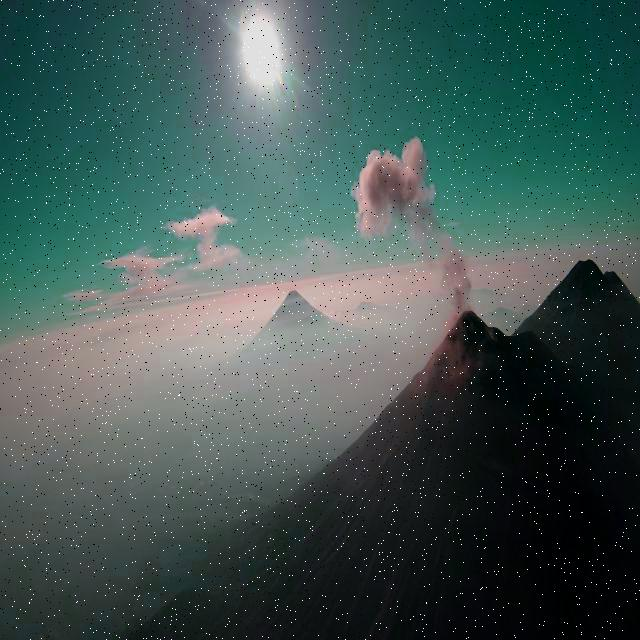Plume: (348, 130, 436, 248), (439, 237, 472, 306)
Summit: (423, 308, 549, 366)
